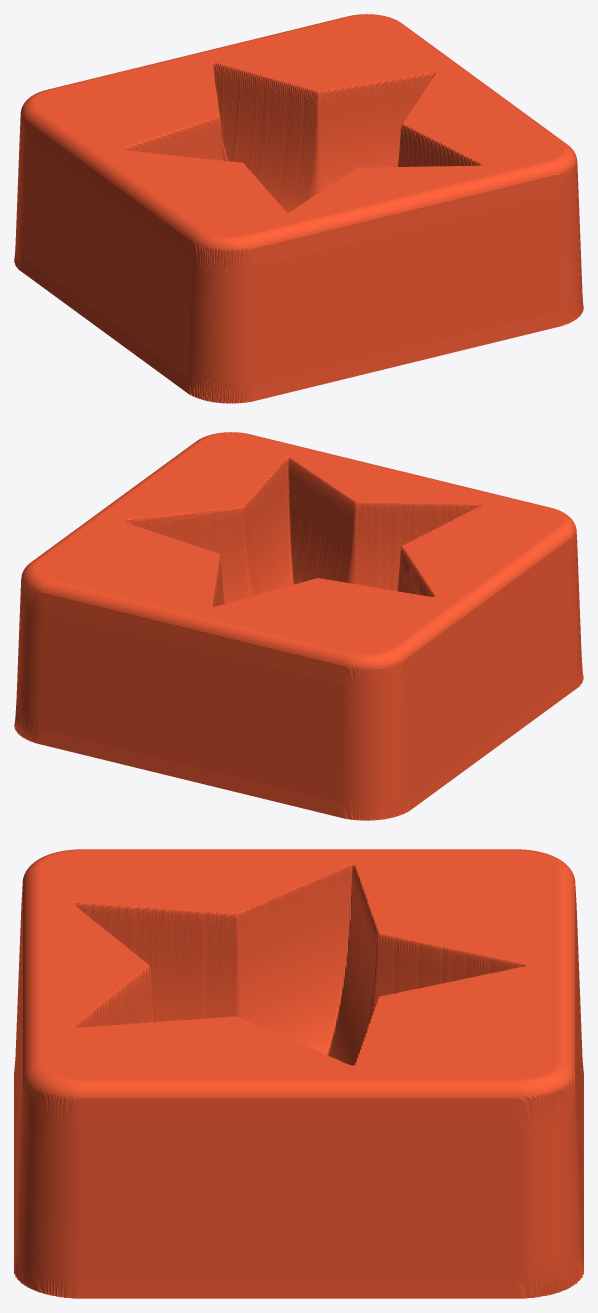
The model's file is mold.glb.
3 renders of one model, top to bottom at view 1: azimuth 30°, elevation 25°; view 2: azimuth 150°, elevation 25°; view 3: azimuth 270°, elevation 25°, orthographic. The views are drawn at different scales.
Parts seen in each view (by area): view 1: geometry_0; view 2: geometry_0; view 3: geometry_0.
Boxes of the visible parts, box(x1,y1,x2,y2) form: geometry_0: box(14, 14, 583, 403); geometry_0: box(14, 432, 583, 820); geometry_0: box(14, 849, 583, 1298).
Bounding box in the file's own units: 0.0798 × 0.031 × 0.0768.
